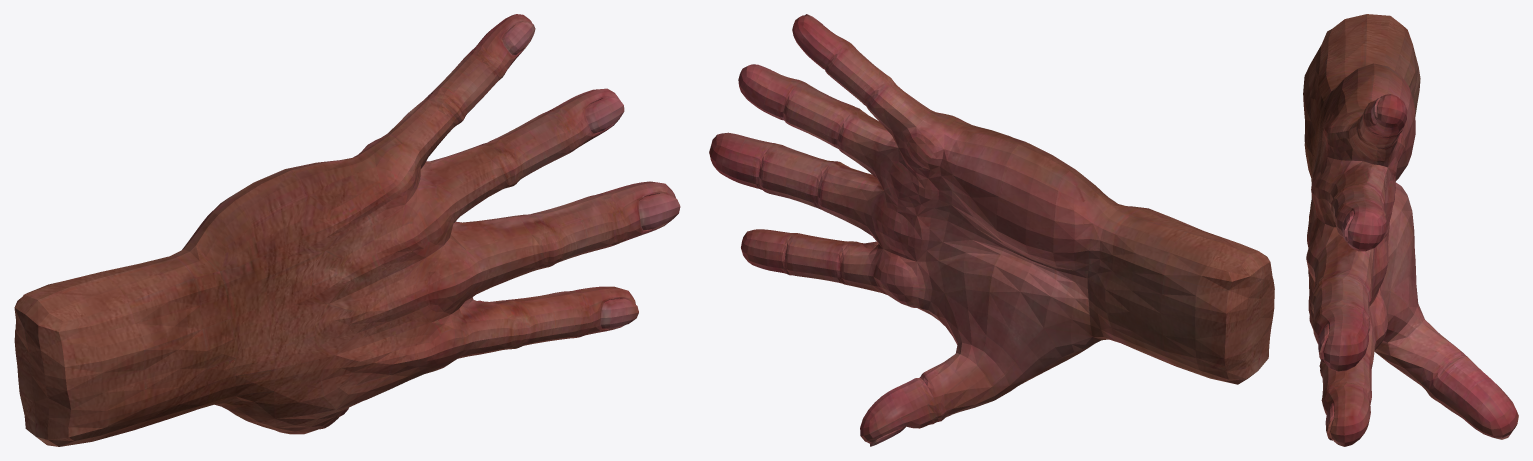
The model's file is realistic_hand_left.dae.
3 renders of one model, left to right at view 1: azimuth 30°, elevation 25°; view 2: azimuth 150°, elevation 25°; view 3: azimuth 270°, elevation 25°, orthographic. The views are drawn at different scales.
Visible parts, largest first — view 1: node; view 2: node; view 3: node.
Boxes of the visible parts, box(x1,y1,x2,y2) form: node: box(14, 14, 680, 446); node: box(709, 14, 1274, 446); node: box(1303, 14, 1518, 446).
Bounding box in the file's own units: 0.2715 × 0.1671 × 0.0803.
Materials: 1 (1 with a texture image).
